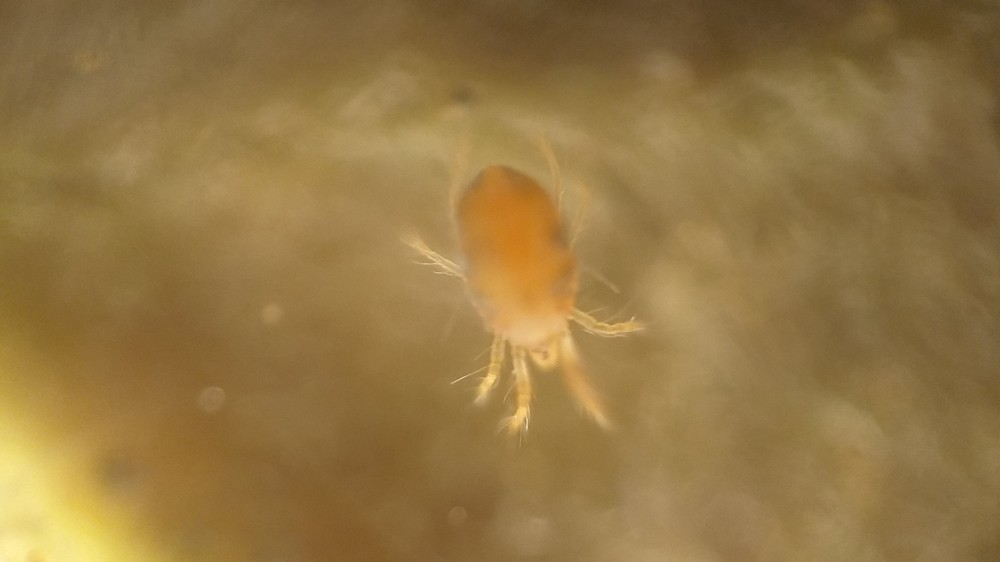Aracnido Rojo: (377, 121, 671, 469)
